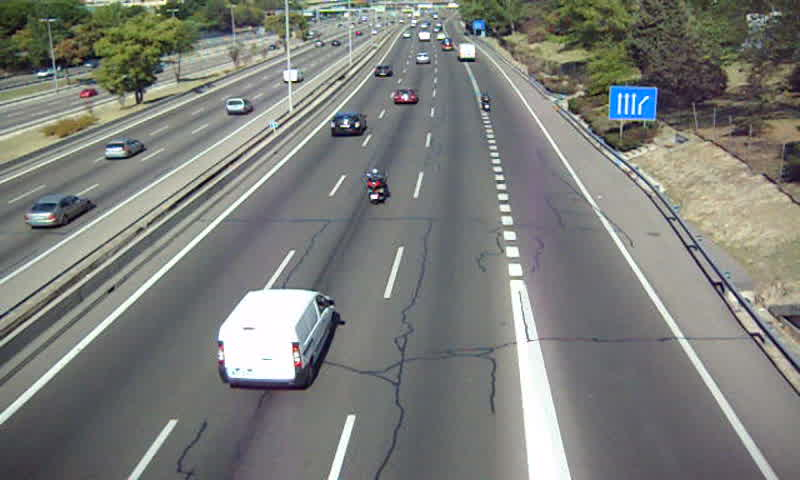car: (327, 112, 366, 137), (393, 88, 417, 104), (373, 64, 393, 77), (414, 52, 429, 65)
motorcycle: (364, 168, 387, 207), (480, 91, 490, 113)
van: (217, 289, 336, 389), (458, 42, 477, 61)
